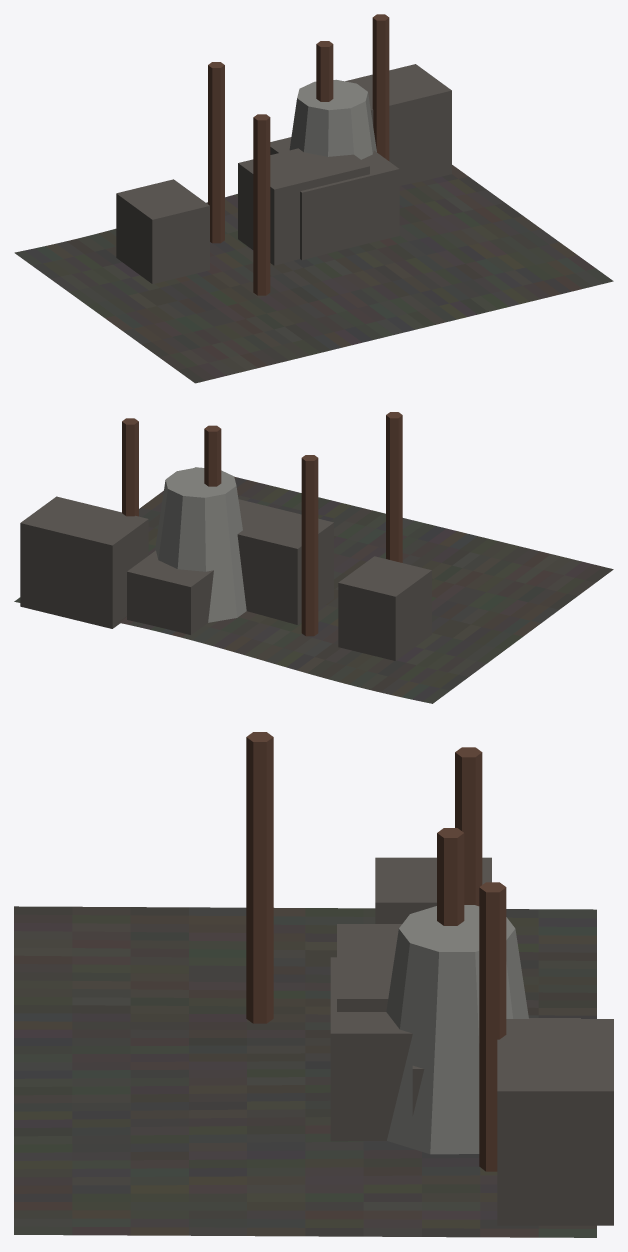
File: bg_industrial_ridge_2_idle.glb
3 views of the same model, one above another, from view 1: azimuth 30°, elevation 25°; view 2: azimuth 150°, elevation 25°; view 3: azimuth 270°, elevation 25° (orthographic). The views are drawn at different scales.
Parts seen in each view (by area): view 1: ridge.001; view 2: ridge.001; view 3: ridge.001.
Boxes of the visible parts, bbox=[...] form: ridge.001: bbox=[14, 14, 613, 383]; ridge.001: bbox=[14, 412, 613, 703]; ridge.001: bbox=[14, 732, 613, 1237].
Size of the model in its own units: 40 by 16.3 by 30.88.
